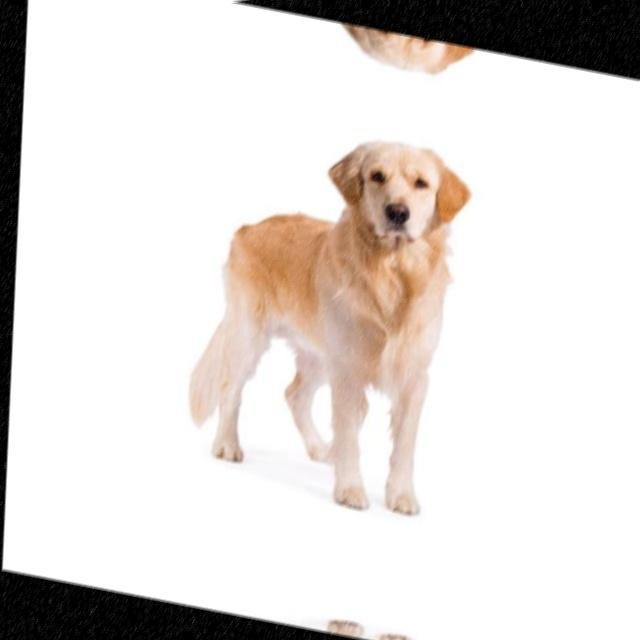dog: (169, 88, 479, 523), (189, 0, 483, 92), (163, 589, 456, 640)
